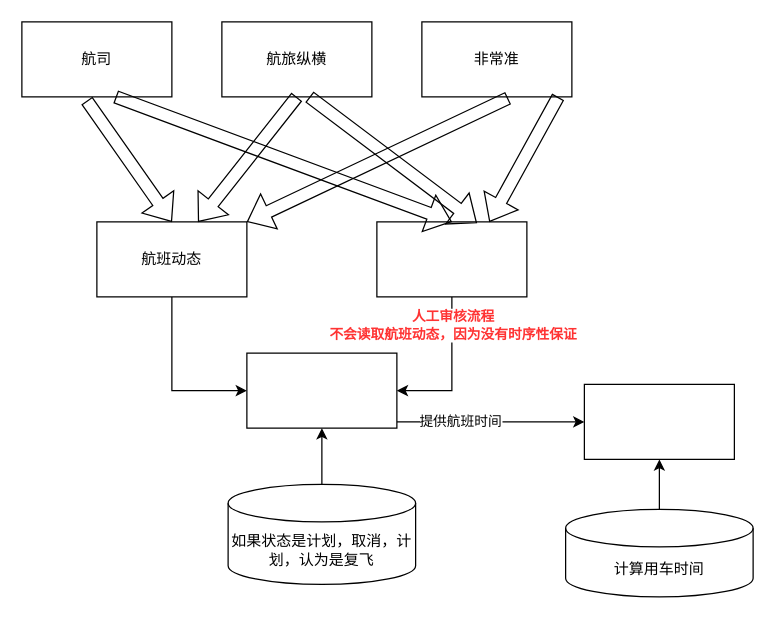
Image size: 775x619. Some labels were removed from this diagram. Here are the shapes that lost their labels. From the top down, the centre of each, then its label:
At point 451,259: "航变中心".
At point 321,390: "用车航班订单".
At point 658,421: "平台派发".
